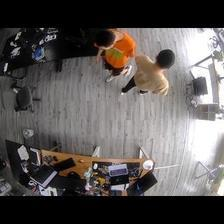normal: (122, 48, 175, 97)
